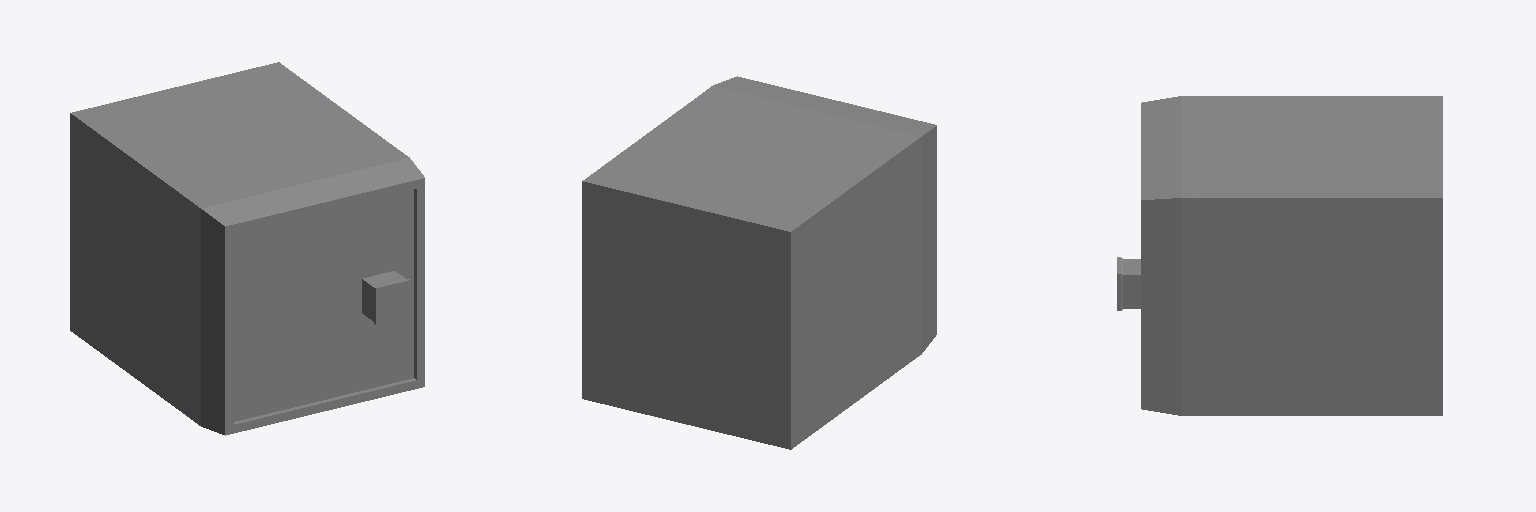
The model's file is residential_building_05.obj.
The picture shows the model from 3 angles: view 1: azimuth 30°, elevation 25°; view 2: azimuth 150°, elevation 25°; view 3: azimuth 270°, elevation 25°; orthographic projection.
Parts seen in each view (by area): view 1: Shops_F_01; view 2: Shops_F_01; view 3: Shops_F_01.
Part boxes in pixels (x1,y1,x2,y2): Shops_F_01: (70,62,424,435); Shops_F_01: (582,76,936,449); Shops_F_01: (1117,96,1442,415).
Bounding box in the file's own units: 32.02 × 31.95 × 43.25.